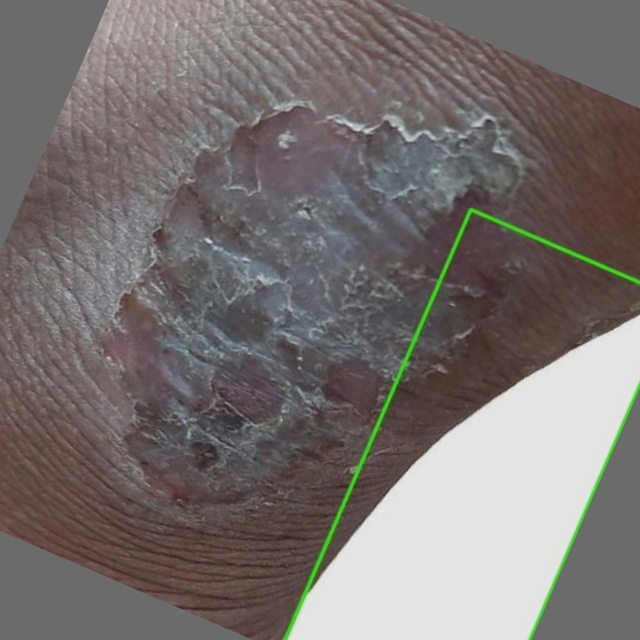Contact Dermatitis: (285, 209, 639, 639)
